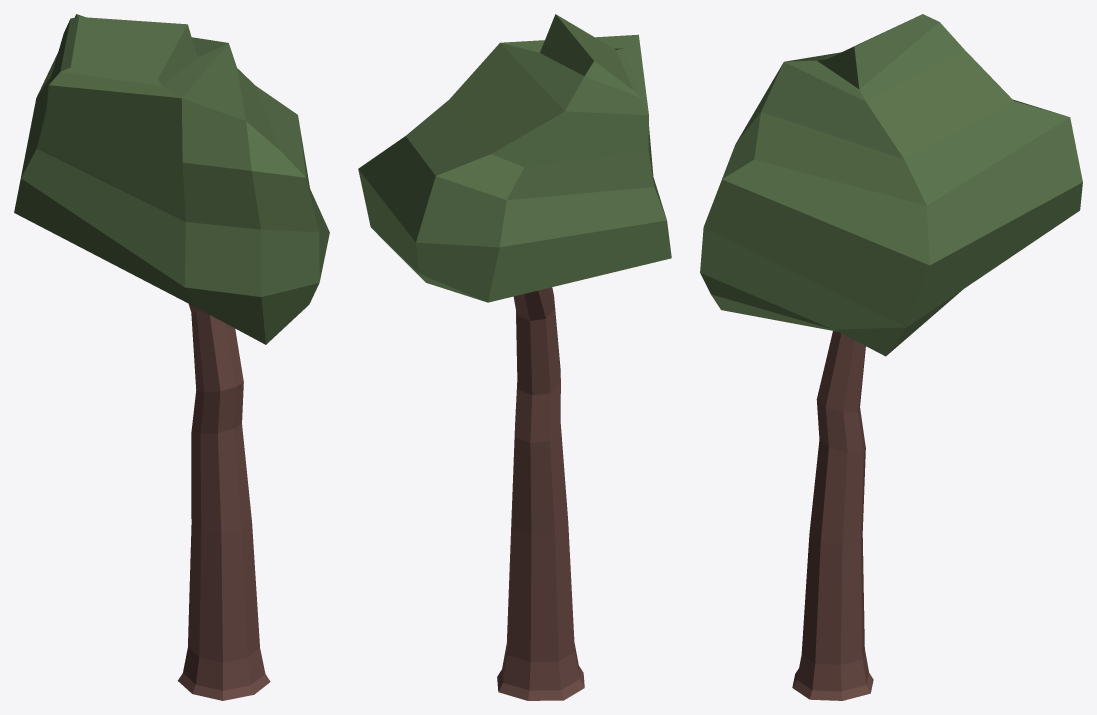
File: Orange_2.glb
The picture shows the model from 3 angles, left to right: view 1: azimuth 30°, elevation 25°; view 2: azimuth 150°, elevation 25°; view 3: azimuth 270°, elevation 25°; orthographic projection. The views are drawn at different scales.
Parts seen in each view (by area): view 1: Orange_2; view 2: Orange_2; view 3: Orange_2.
Part boxes in pixels (bbox=[...]): Orange_2: bbox=[14, 14, 329, 700]; Orange_2: bbox=[358, 14, 671, 700]; Orange_2: bbox=[700, 14, 1082, 700].
Size of the model in its own units: 0.4385 by 0.9389 by 0.5213.
